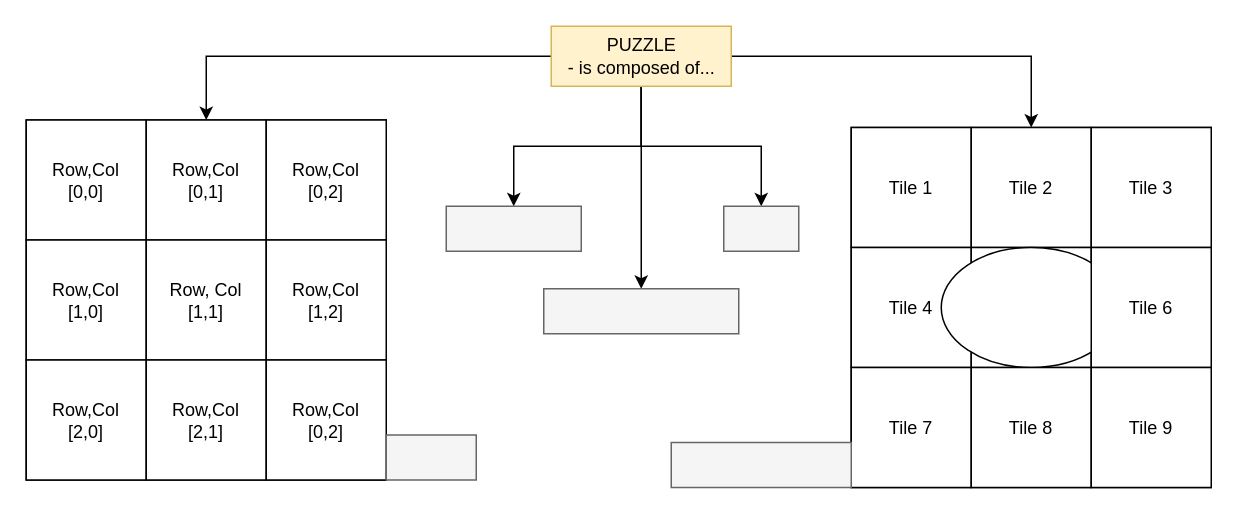
Image size: 1238x515. Some labels were removed from this diagram. Each missing label, with the centre of its shape:
"Blank Tile" goes at (1030,307).
"Blank Tile Location" goes at (760,464).
"Board" goes at (430,457).
"Depth Level" goes at (513,228).
"Manhattan Distance" goes at (640,310).
"Move" goes at (760,228).
